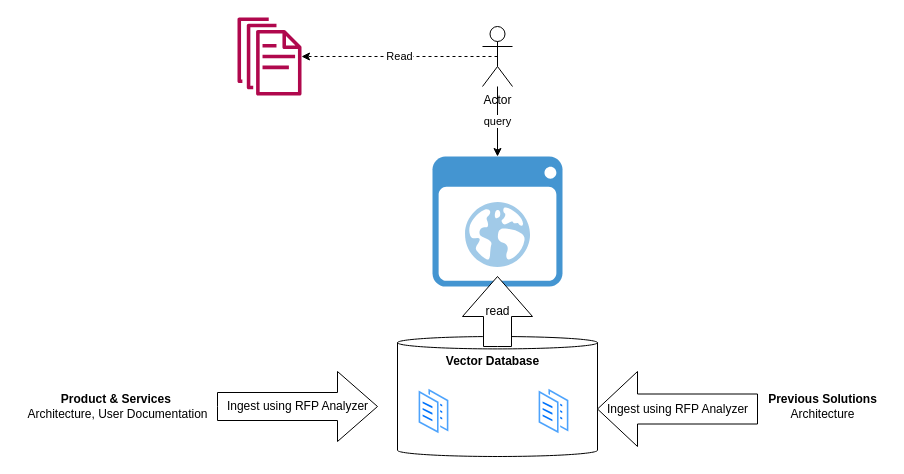
This 904x474 diagram has some shape labels left out. The shapes that lost their labels are listed below. From the top down, each one's centre as x and y in pixels, then its label:
At [269,56]: "RFP".
At [497,221]: "OpenAI based Query Interface".
